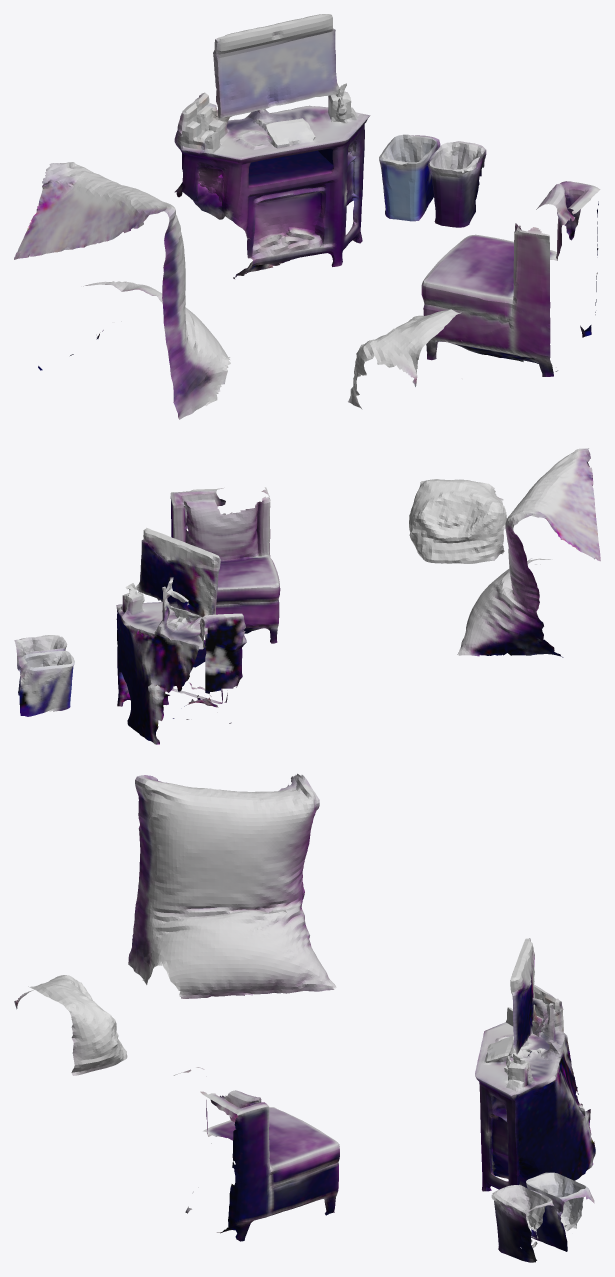
The picture shows the model from 3 angles, top to bottom: view 1: azimuth 30°, elevation 25°; view 2: azimuth 150°, elevation 25°; view 3: azimuth 270°, elevation 25°; orthographic projection. The views are drawn at different scales.
Visible parts, largest first — view 1: obj_1.ply; view 2: obj_1.ply; view 3: obj_1.ply.
Boxes of the visible parts, box(x1,y1,x2,y2) form: obj_1.ply: box(14, 14, 600, 419); obj_1.ply: box(14, 448, 600, 744); obj_1.ply: box(14, 773, 595, 1262).
Bounding box in the file's own units: 4.05 × 1.77 × 3.68.
